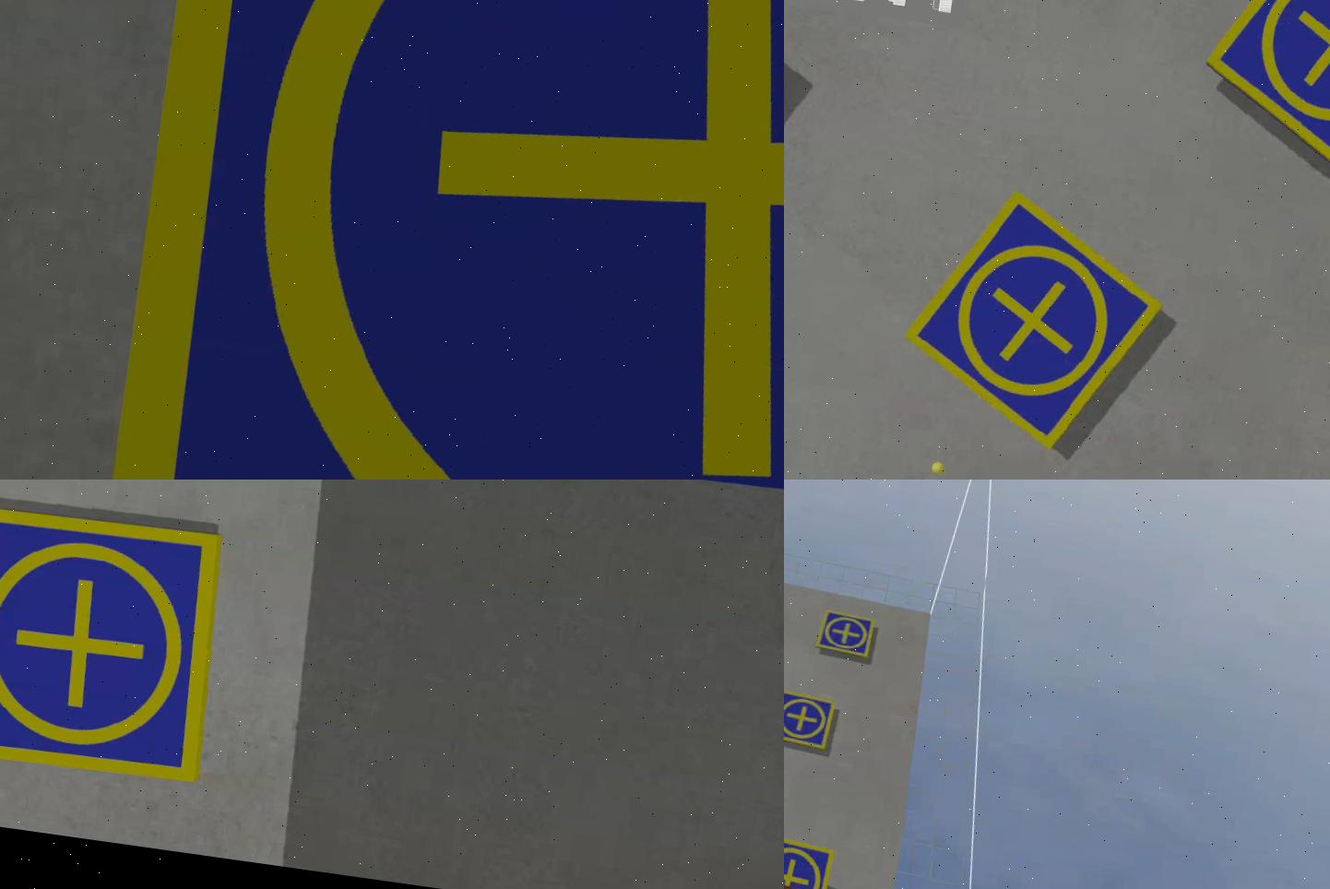large_base: (99, 1, 785, 480)
small_base: (894, 180, 1174, 465), (1, 502, 235, 792), (1194, 1, 1330, 204), (785, 688, 839, 753), (816, 608, 880, 661), (785, 833, 838, 889)
